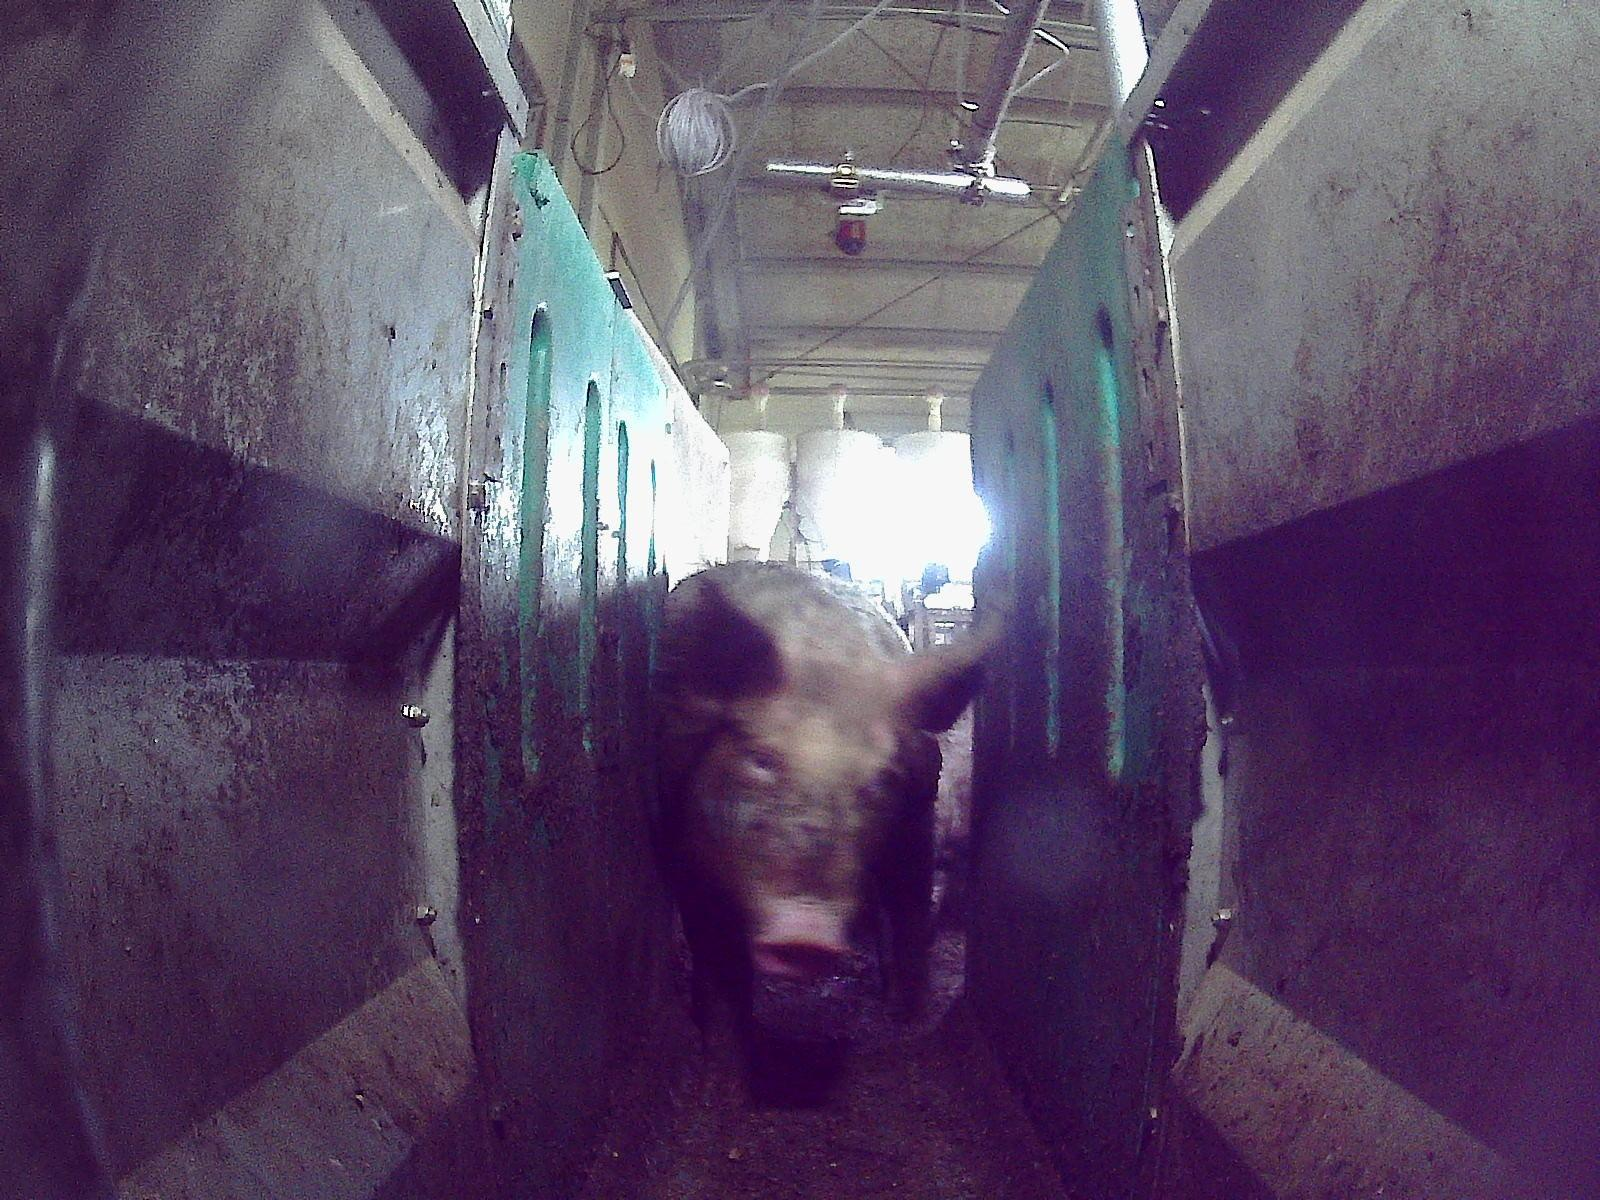Face: (694, 661, 909, 983)
